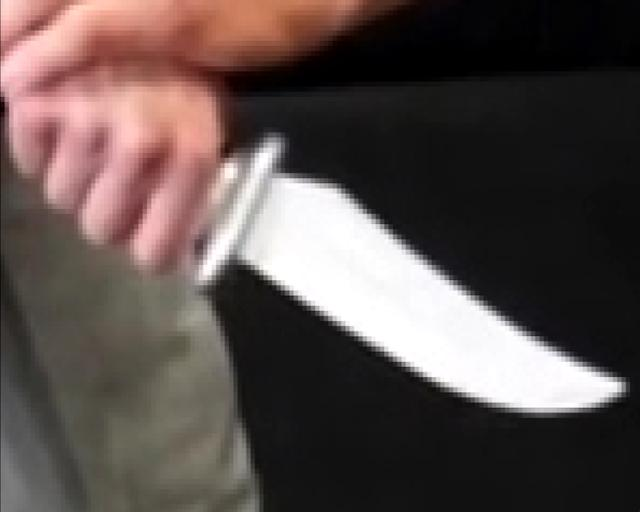long knife: (41, 66, 631, 418)
